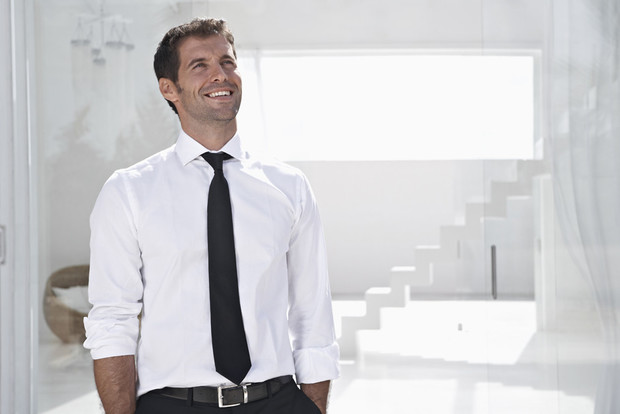tie: (198, 149, 265, 389)
